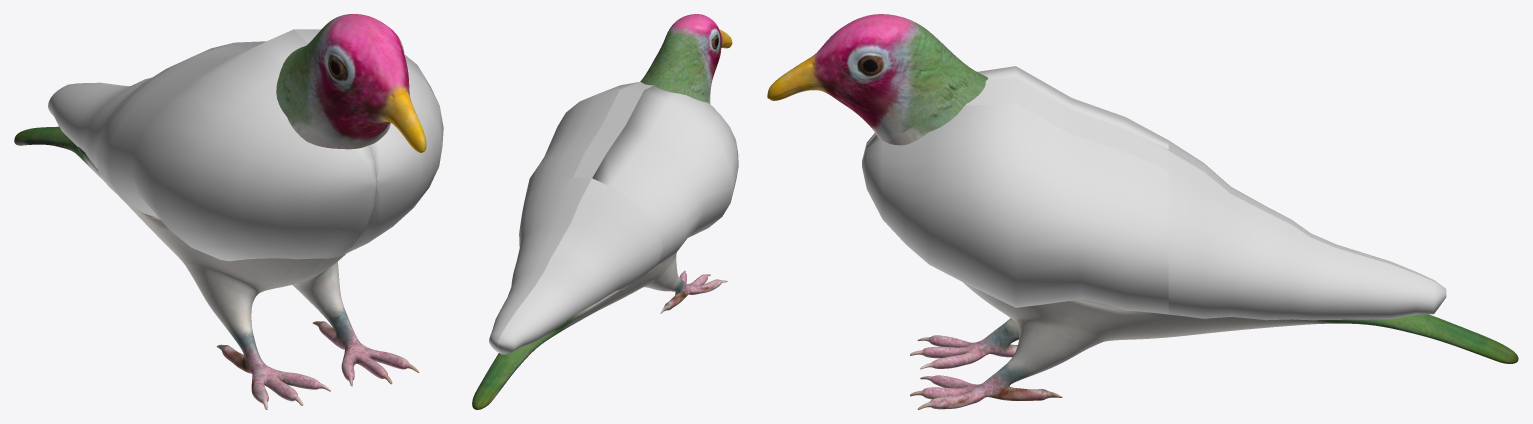
Rendered from dove 1.fbx.
3 views of the same model, side by side, from view 1: azimuth 30°, elevation 25°; view 2: azimuth 150°, elevation 25°; view 3: azimuth 270°, elevation 25° (orthographic). The views are drawn at different scales.
Parts seen in each view (by area): view 1: Left wing, Body, Right wing; view 2: Left wing, Right wing, Body; view 3: Right wing, Body, Left wing.
Boxes of the visible parts, x1,y1,x2,y2 form: Left wing: (48,29,376,261); Body: (14,14,426,409); Right wing: (94,29,443,255); Left wing: (497,85,738,354); Right wing: (489,82,653,353); Body: (472,14,732,409); Right wing: (862,77,1446,320); Body: (767,14,1518,409); Left wing: (862,66,1445,288).
Size of the model in its own units: 173 by 226 by 426.
Materials: 2 (1 with a texture image).
